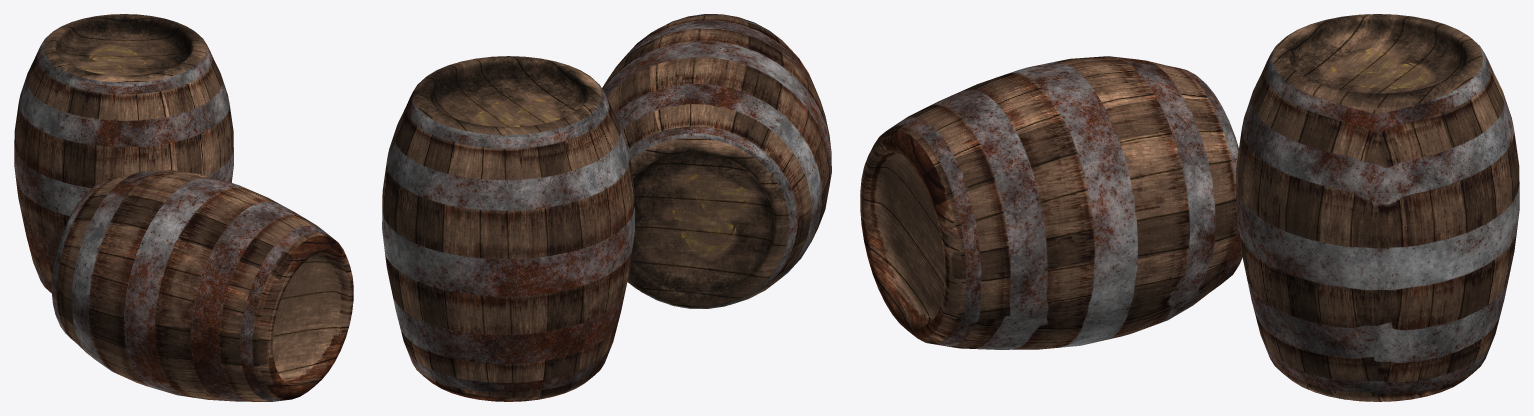
The model's file is uploads_files_4275469_barrel.fbx.
3 renders of one model, left to right at view 1: azimuth 30°, elevation 25°; view 2: azimuth 150°, elevation 25°; view 3: azimuth 270°, elevation 25°, orthographic. The views are drawn at different scales.
Visible parts, largest first — view 1: Cylinder002, Cylinder001; view 2: Cylinder001, Cylinder002; view 3: Cylinder001, Cylinder002.
Part boxes in pixels (bbox=[...]): Cylinder002: bbox=[51, 170, 353, 401]; Cylinder001: bbox=[14, 14, 233, 293]; Cylinder001: bbox=[382, 56, 634, 401]; Cylinder002: bbox=[602, 14, 831, 308]; Cylinder001: bbox=[1236, 14, 1519, 401]; Cylinder002: bbox=[860, 56, 1242, 349].
Bounding box in the file's own units: 67.97 × 60.9 × 118.
Materials: 1 (1 with a texture image).
